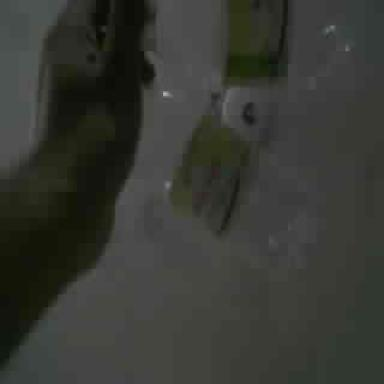bottle: (133, 83, 331, 302), (136, 0, 365, 93)
